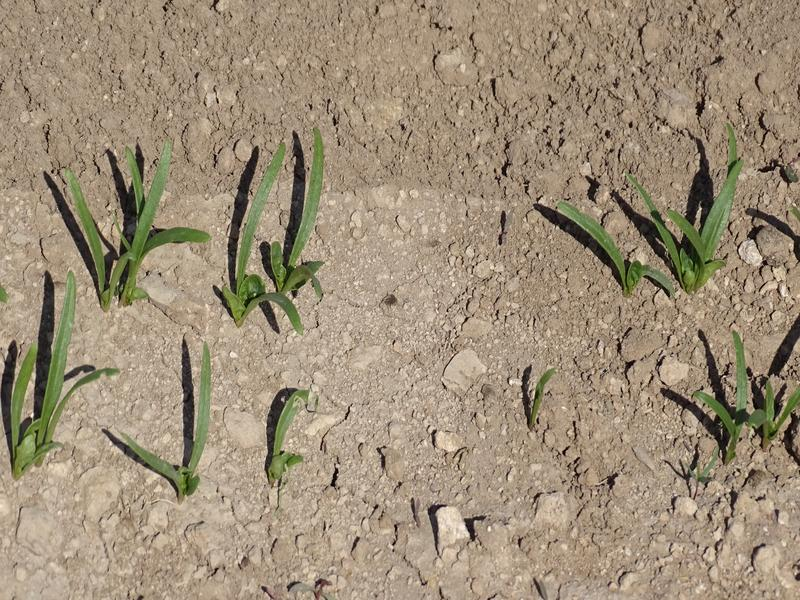Espinaca: (564, 130, 751, 287), (221, 119, 331, 323), (72, 121, 201, 294), (9, 275, 86, 466), (136, 340, 219, 494), (695, 327, 795, 450), (269, 386, 313, 480)
